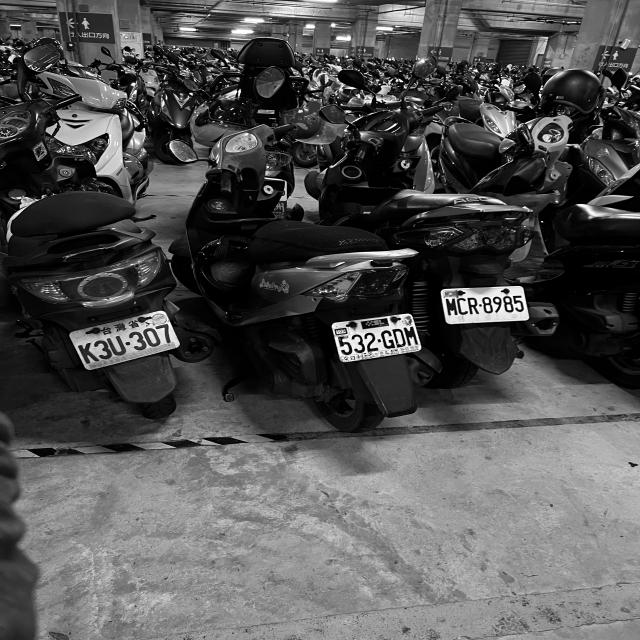-: (124, 340, 132, 347), (377, 337, 383, 344), (479, 303, 483, 307)
0: (141, 327, 164, 348)
2: (362, 331, 380, 352)
3: (126, 330, 149, 352), (93, 339, 114, 361), (349, 333, 367, 354)
5: (338, 335, 355, 356), (513, 294, 525, 312)
7: (154, 321, 176, 344)
8: (504, 295, 514, 312), (482, 296, 492, 313)
9: (492, 296, 502, 312)
C: (458, 298, 468, 314)
D: (392, 327, 407, 348)
G: (380, 328, 396, 350)
K: (76, 342, 100, 365)
M: (403, 326, 418, 346), (445, 298, 457, 316)
R: (468, 296, 479, 314)
U: (106, 335, 129, 356)
plate: (71, 309, 181, 371), (334, 316, 420, 361), (441, 288, 528, 320)
